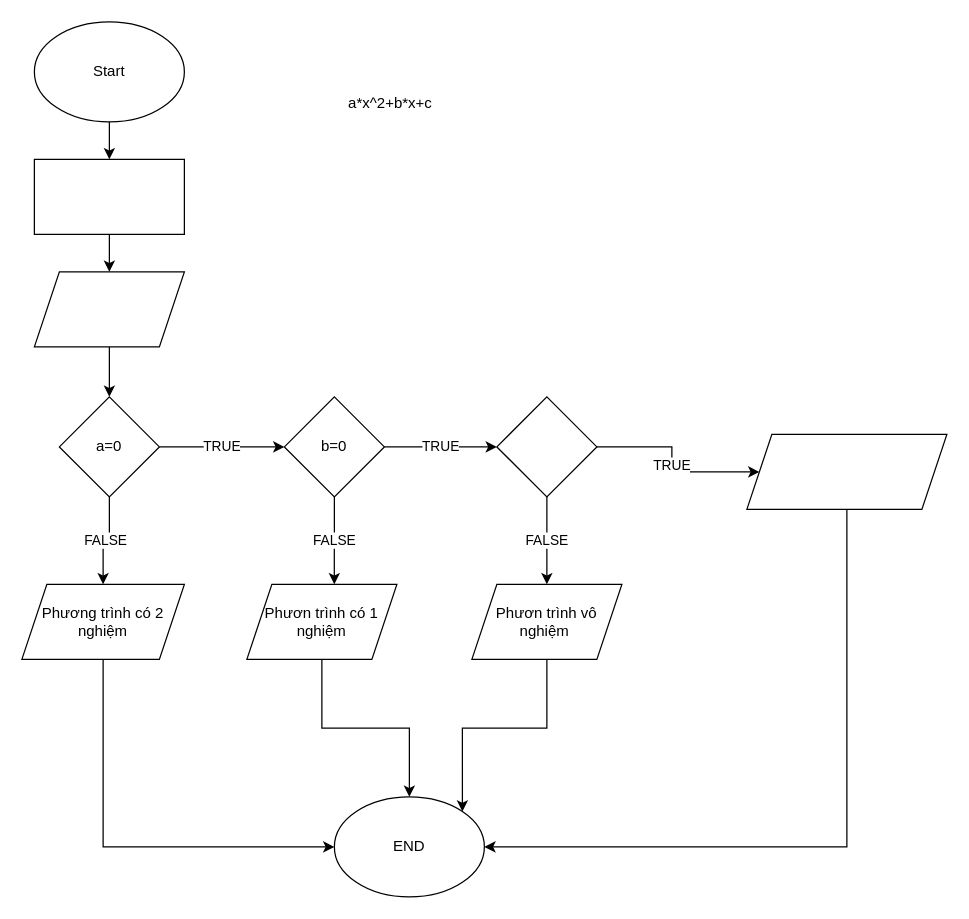
The diagram is 969 pixels wide and 919 high, and some of its shapes have lost their labels. Each missing label, with the box of its shape:
a,b,c: (33, 158, 184, 234)
a,b.c: (33, 271, 184, 347)
c=0: (496, 396, 597, 497)
Phương trình có vô số nghiệm: (746, 433, 947, 509)
